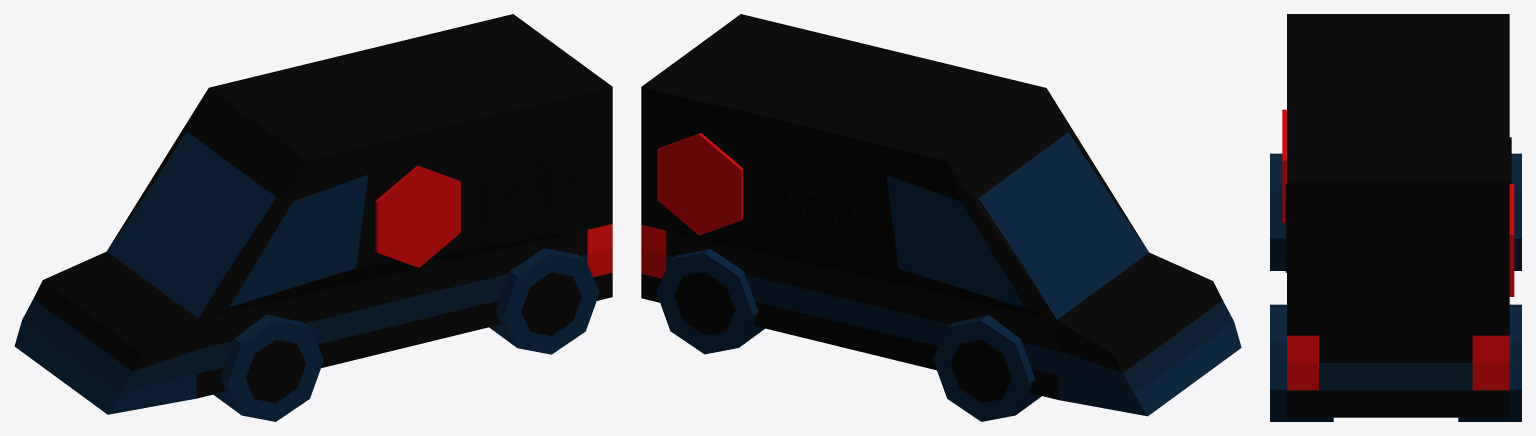
File: Car.fbx
The picture shows the model from 3 angles, left to right: view 1: azimuth 30°, elevation 25°; view 2: azimuth 150°, elevation 25°; view 3: azimuth 270°, elevation 25°; orthographic projection. The views are drawn at different scales.
Parts seen in each view (by area): view 1: Cylinder.003; view 2: Cylinder.003; view 3: Cylinder.003.
Part boxes in pixels (box(x1,y1,x2,y2)): Cylinder.003: box(14, 14, 612, 421); Cylinder.003: box(641, 14, 1241, 421); Cylinder.003: box(1270, 14, 1521, 421).
Bounding box in the file's own units: 906 × 351 × 425.
